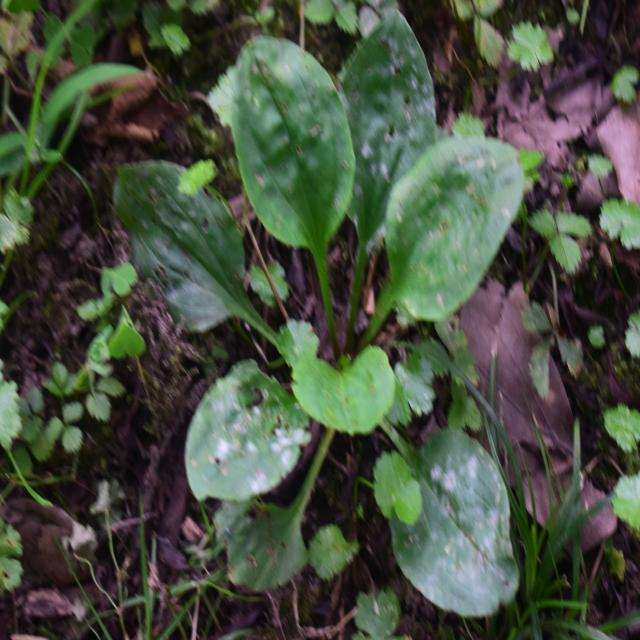plantain: (145, 43, 522, 586)
